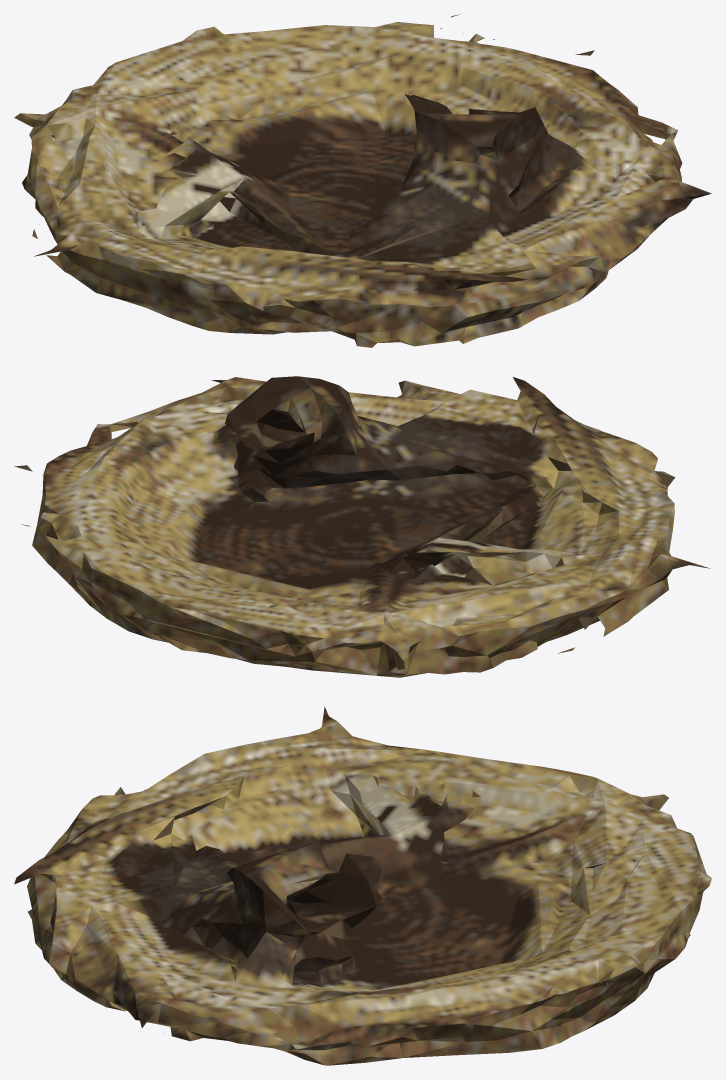
File: SM_MeshyNest.fbx
The picture shows the model from 3 angles, top to bottom: view 1: azimuth 30°, elevation 25°; view 2: azimuth 150°, elevation 25°; view 3: azimuth 270°, elevation 25°; orthographic projection. The views are drawn at different scales.
Parts seen in each view (by area): view 1: SM_MeshyNest; view 2: SM_MeshyNest; view 3: SM_MeshyNest.
Boxes of the visible parts, x1,y1,x2,y2 form: SM_MeshyNest: [14, 14, 711, 347]; SM_MeshyNest: [14, 376, 709, 677]; SM_MeshyNest: [14, 706, 711, 1065].
Size of the model in its own units: 2.91 by 0.5206 by 2.64.
Materials: 1 (1 with a texture image).
